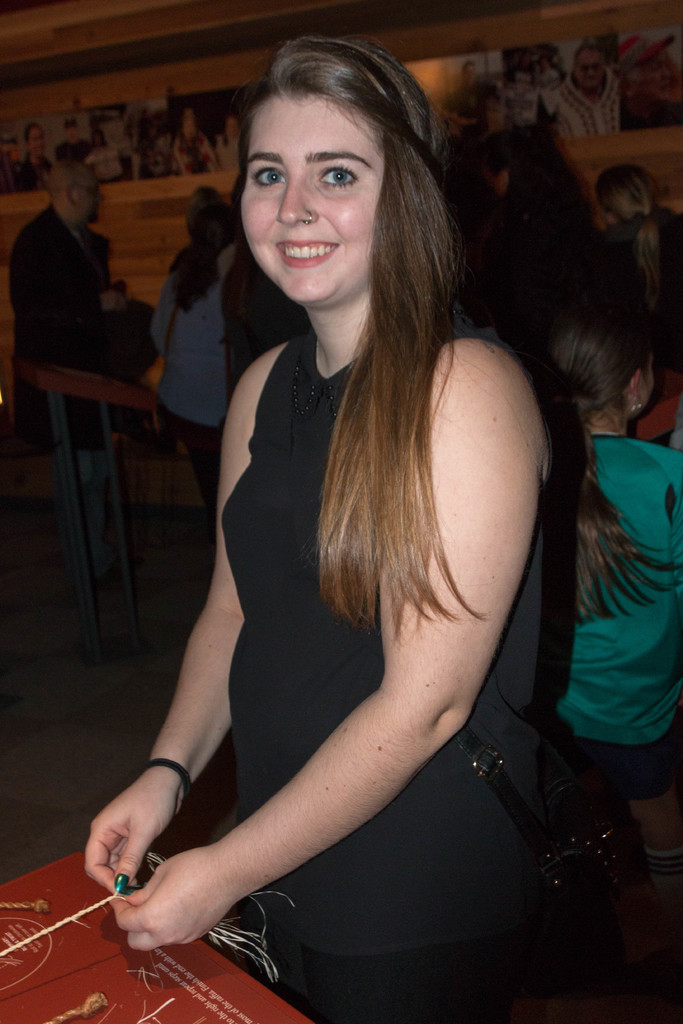Human_hand: (108, 802, 258, 964), (78, 771, 185, 900), (103, 290, 127, 316)
